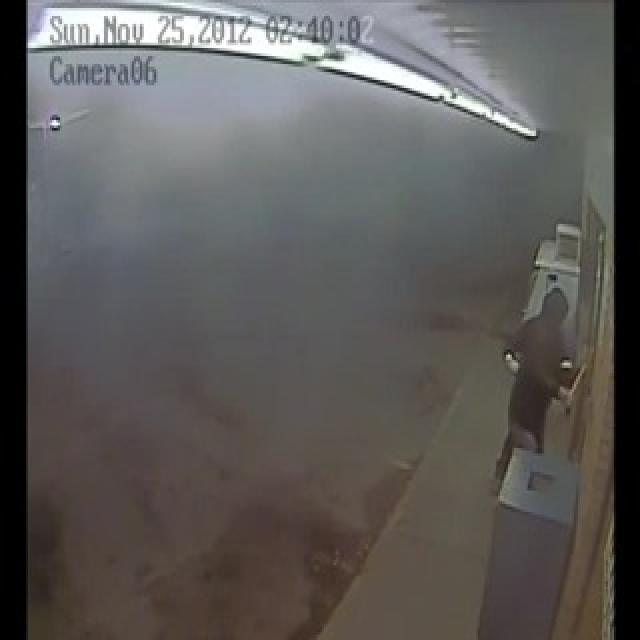burglary: (505, 257, 598, 490)
